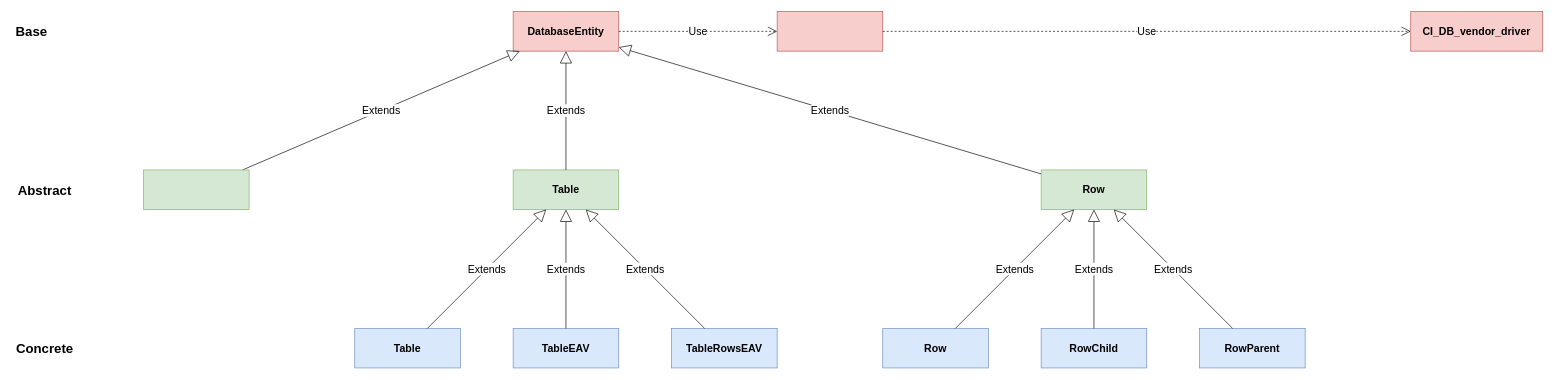
This 1554x380 diagram has some shape labels left out. The centre of each missing label's shape, as x and y in pixels:
"Database" goes at point 196,189.
"DatabaseGateway" goes at point 829,31.
